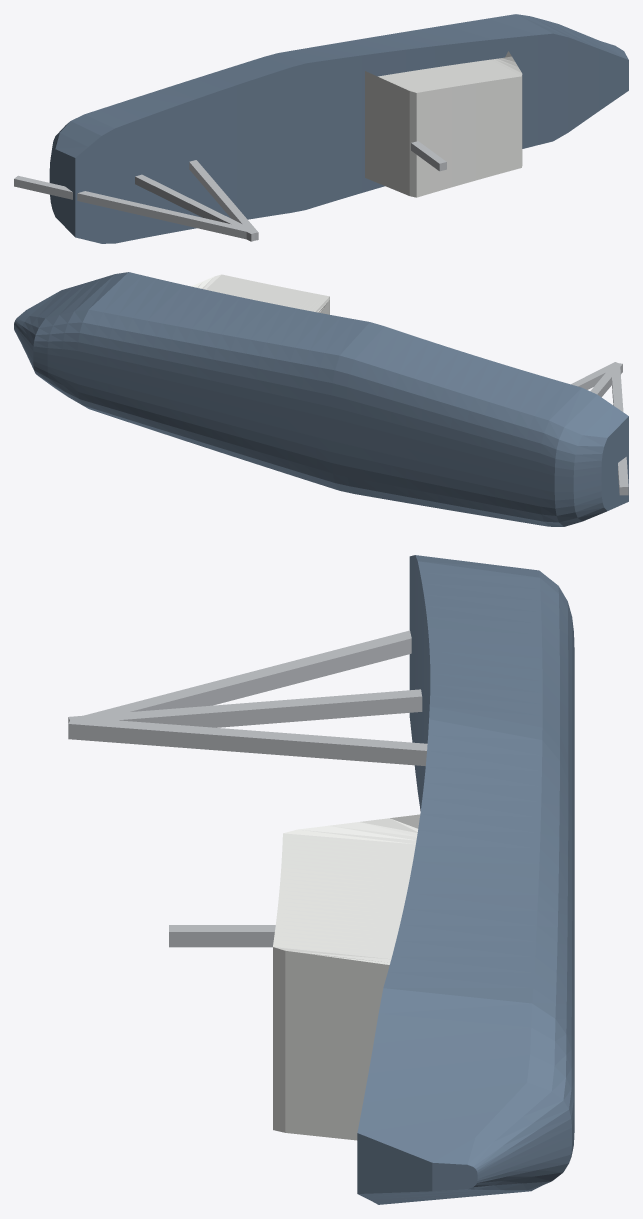
File: loft-trawler-sheered.glb
The picture shows the model from 3 angles, top to bottom: view 1: azimuth 30°, elevation 25°; view 2: azimuth 150°, elevation 25°; view 3: azimuth 270°, elevation 25°; orthographic projection. The views are drawn at different scales.
Parts seen in each view (by area): view 1: loft-trawler-sheered; view 2: loft-trawler-sheered; view 3: loft-trawler-sheered.
Part boxes in pixels (box(x1,y1,x2,y2)): loft-trawler-sheered: box(14, 14, 628, 243); loft-trawler-sheered: box(14, 272, 628, 526); loft-trawler-sheered: box(68, 555, 574, 1204).
Bounding box in the file's own units: 1.92 × 0.4599 × 0.7193.
